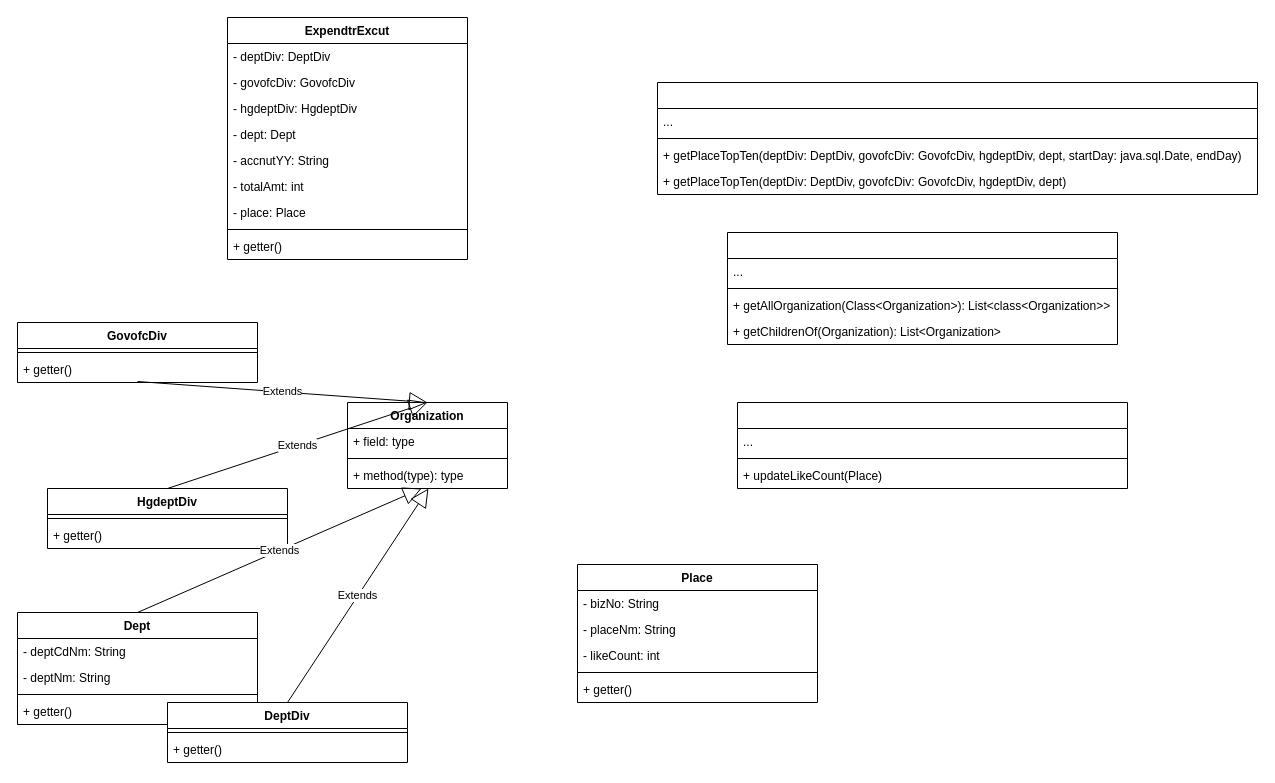
Image size: 1275x783. Some labels were removed from this diagram. Here are the shapes that lost their labels. From the top down, the box of each, then its label:
(656, 82, 1258, 194): ExpendtrDAO
(726, 232, 1118, 344): OrganizationDAO
(736, 402, 1128, 488): PlaceDAO
